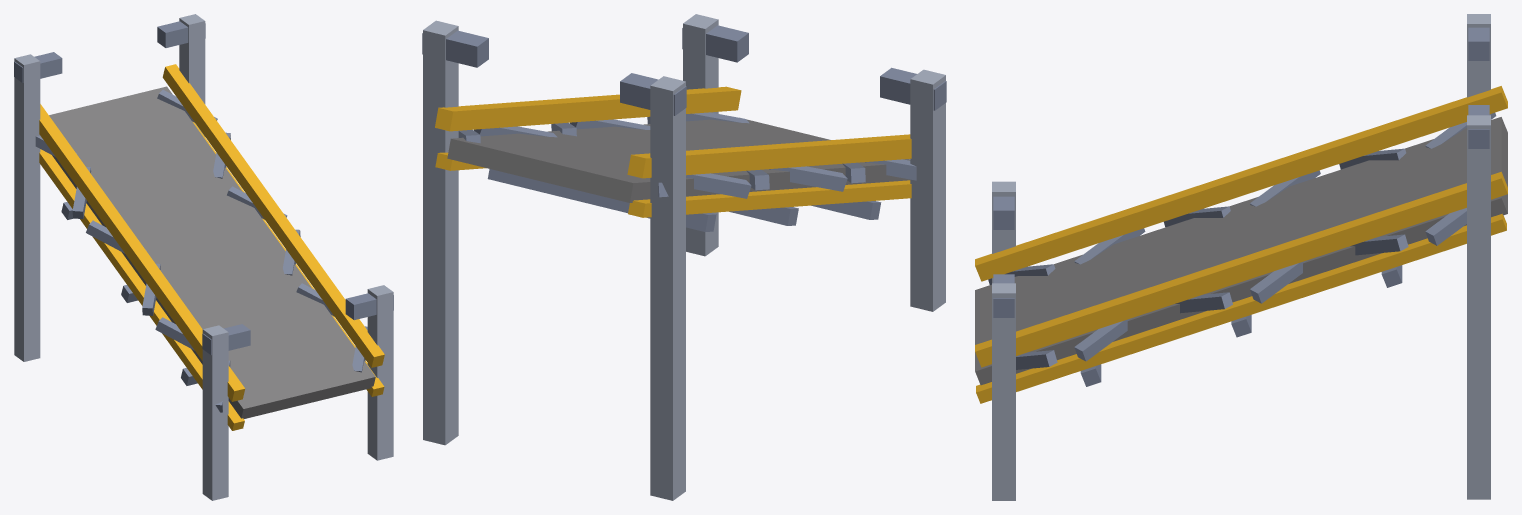
Rendered from conveyor_slope.glb.
The picture shows the model from 3 angles, left to right: view 1: azimuth 30°, elevation 25°; view 2: azimuth 150°, elevation 25°; view 3: azimuth 270°, elevation 25°; orthographic projection. The views are drawn at different scales.
Parts seen in each view (by area): view 1: conveyor_slope; view 2: conveyor_slope; view 3: conveyor_slope.
Boxes of the visible parts, bbox=[...] form: conveyor_slope: bbox=[14, 14, 393, 500]; conveyor_slope: bbox=[422, 14, 946, 500]; conveyor_slope: bbox=[975, 14, 1507, 500].
Size of the model in its own units: 1 by 1.55 by 2.
